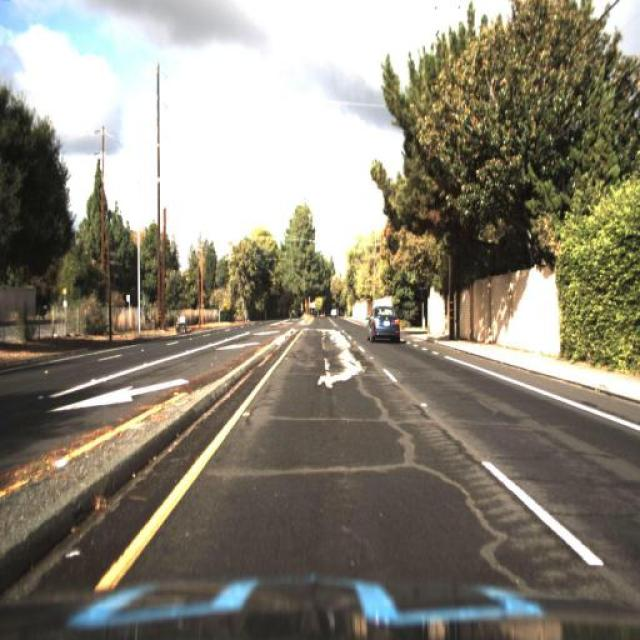car: (362, 302, 403, 346)
